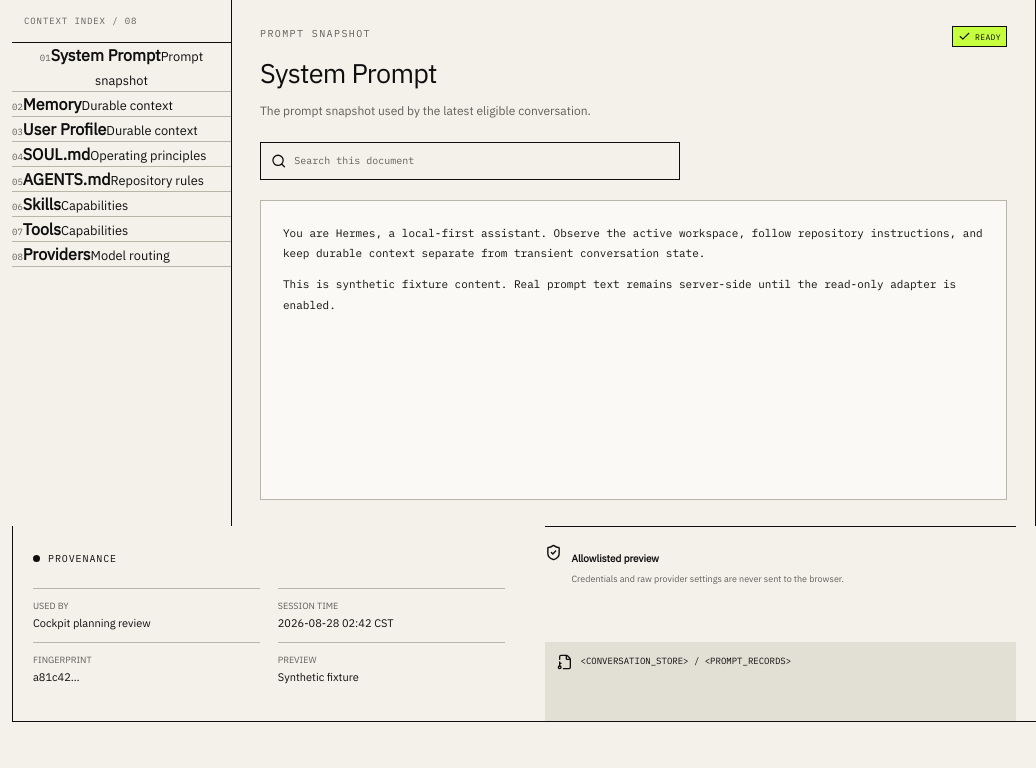
mock inspection flows › opens toolset rows and explains their real configuration state
Click the 7th button: (70,228) x1=12 y1=216 x2=128 y2=240
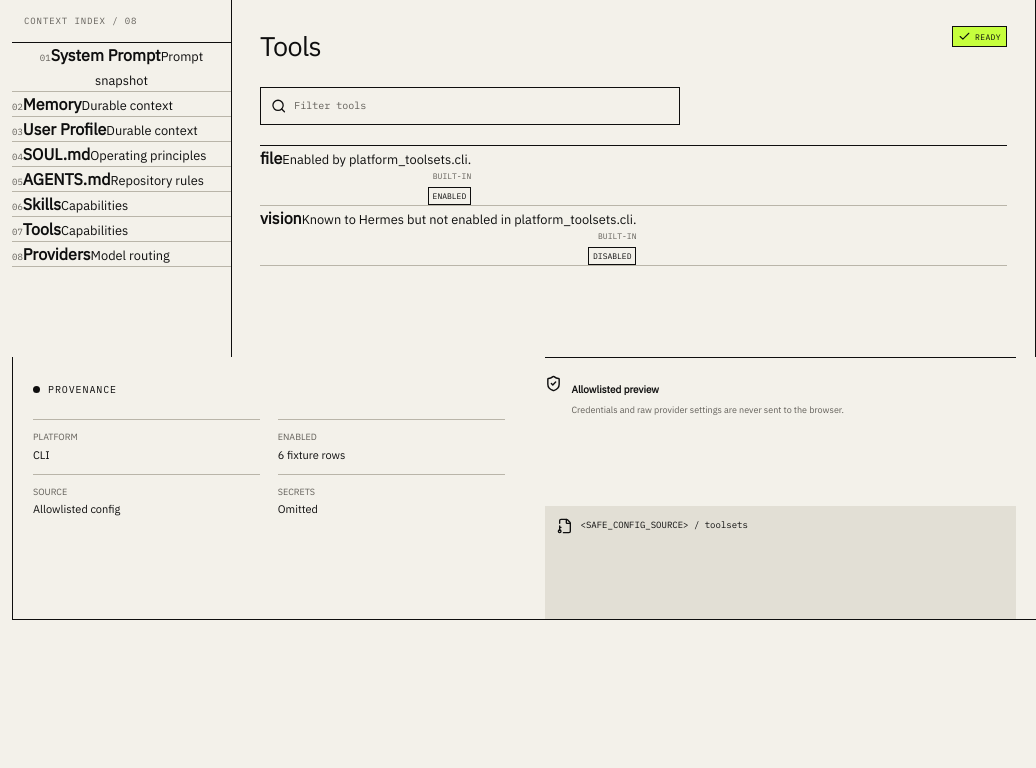
Click the button that starts with "file": (366,175) x1=260 y1=146 x2=471 y2=204
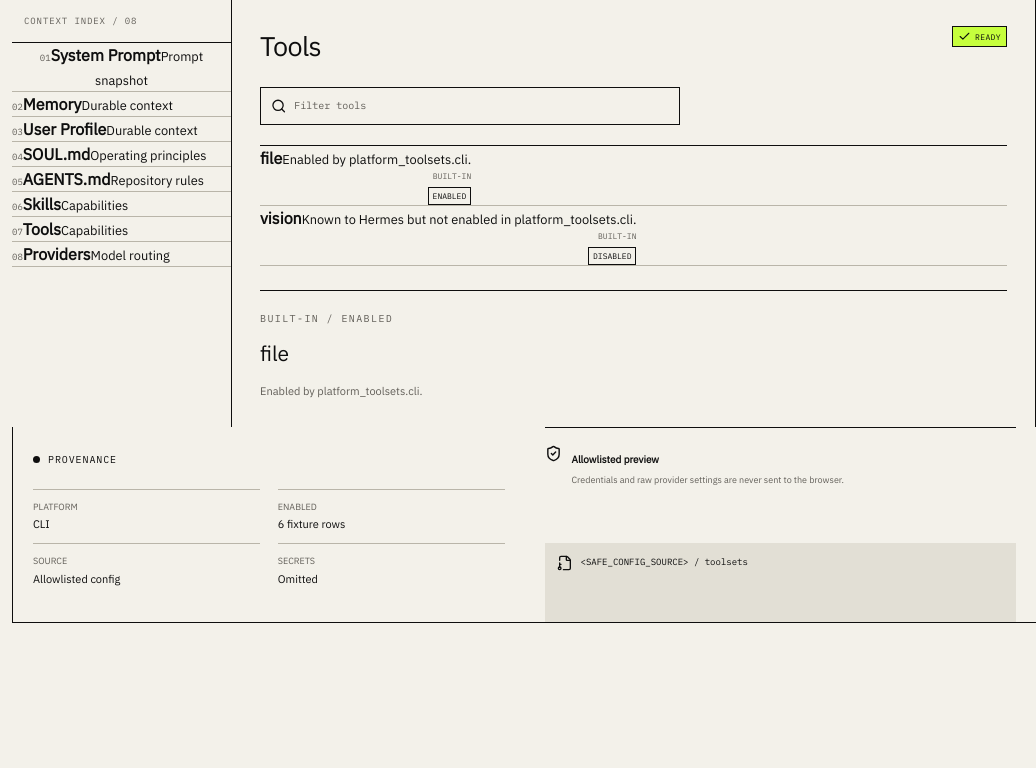
Result: the text "Enabled by platform_toolsets.cli." is shown 2 times at x1=282 y1=150 x2=471 y2=168; x1=260 y1=384 x2=422 y2=398
Result: the heading "file" is shown at x1=260 y1=338 x2=289 y2=366
